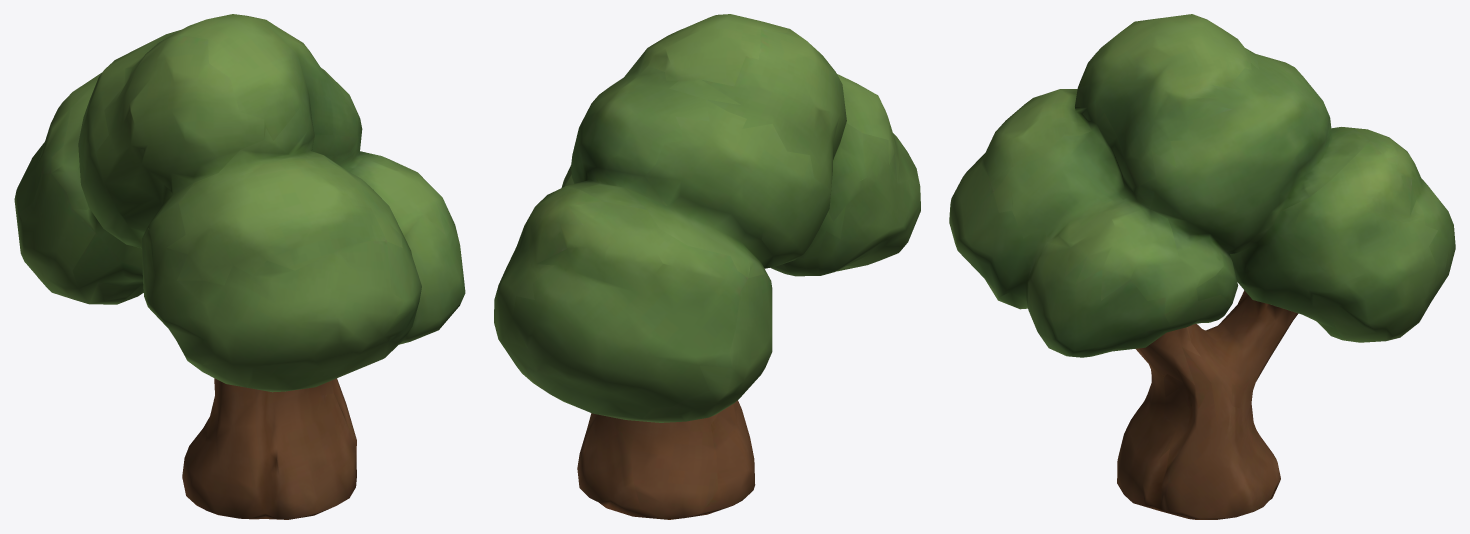
Rendered from tree-oak.glb.
3 renders of one model, left to right at view 1: azimuth 30°, elevation 25°; view 2: azimuth 150°, elevation 25°; view 3: azimuth 270°, elevation 25°, orthographic. The views are drawn at different scales.
Parts seen in each view (by area): view 1: tripo_node_73333322-b226-410f-b96a-1004a57c4418; view 2: tripo_node_73333322-b226-410f-b96a-1004a57c4418; view 3: tripo_node_73333322-b226-410f-b96a-1004a57c4418.
Part boxes in pixels (bbox=[...]): tripo_node_73333322-b226-410f-b96a-1004a57c4418: bbox=[14, 14, 465, 519]; tripo_node_73333322-b226-410f-b96a-1004a57c4418: bbox=[494, 14, 920, 519]; tripo_node_73333322-b226-410f-b96a-1004a57c4418: bbox=[949, 14, 1455, 519].
Size of the model in its own units: 0.6455 by 0.9594 by 1.
1 material, 1 textured.
